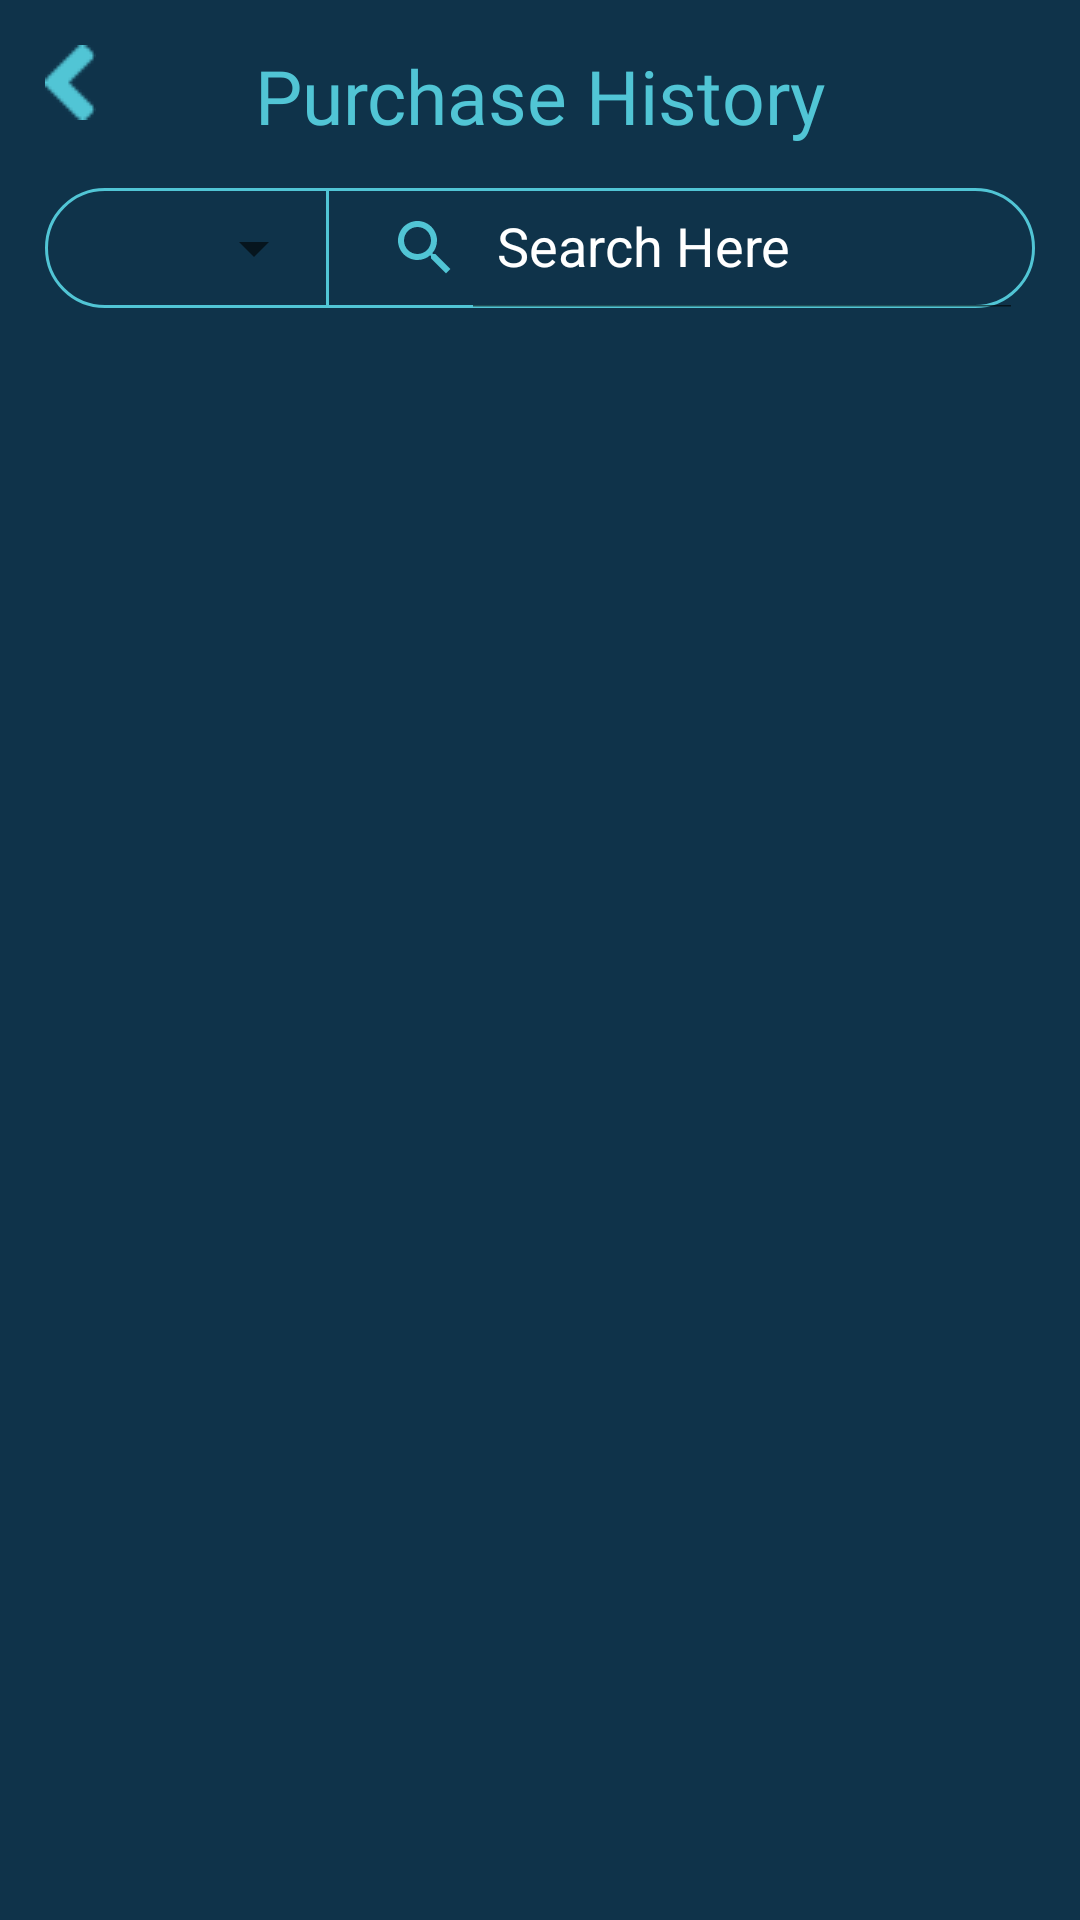

Screen size 1080px×1920px. Icon name, then its center in pixels as (x=x, y=y):
back arrow: (x=69, y=82)
